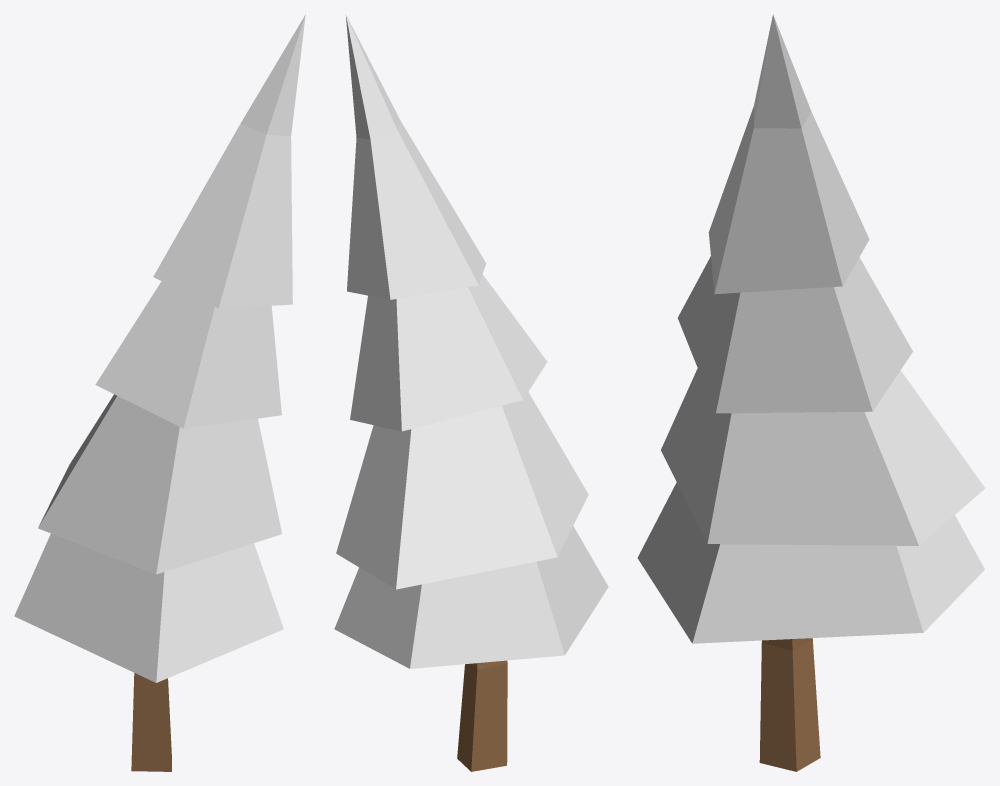
Rendered from Fir_Tree_OneSided_m_Snow_12_LOD.fbx.
The picture shows the model from 3 angles, left to right: view 1: azimuth 30°, elevation 25°; view 2: azimuth 150°, elevation 25°; view 3: azimuth 270°, elevation 25°; orthographic projection. The views are drawn at different scales.
Parts seen in each view (by area): view 1: Fir_Tree_OneSided_m_Snow_12_LOD0; view 2: Fir_Tree_OneSided_m_Snow_12_LOD0; view 3: Fir_Tree_OneSided_m_Snow_12_LOD0.
Boxes of the visible parts, x1=… form: Fir_Tree_OneSided_m_Snow_12_LOD0: x1=14, y1=14, x2=305, y2=771; Fir_Tree_OneSided_m_Snow_12_LOD0: x1=334, y1=14, x2=608, y2=771; Fir_Tree_OneSided_m_Snow_12_LOD0: x1=637, y1=14, x2=985, y2=771.
Size of what is drawn, in the model's own units: 175 by 468 by 178.
